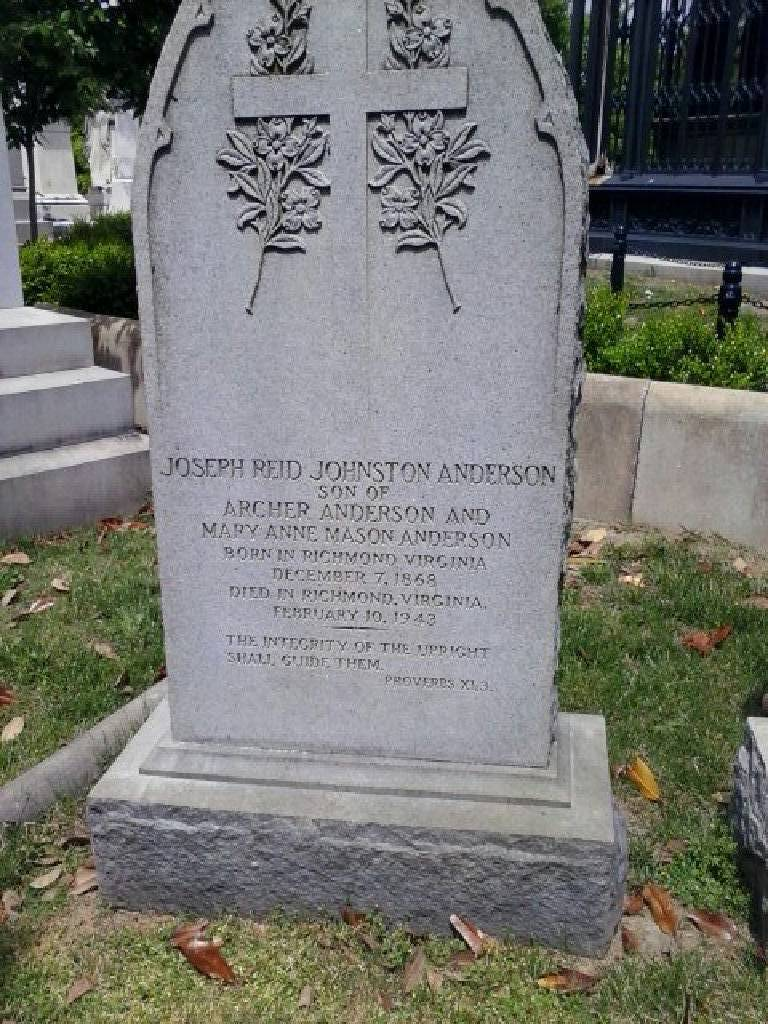upright: (62, 2, 674, 990)
